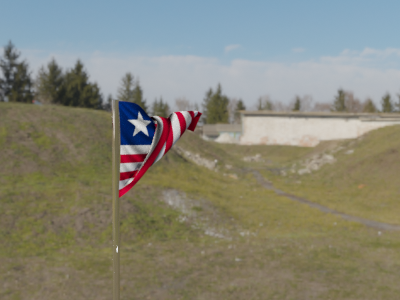Liberia flag: (111, 98, 209, 205)
